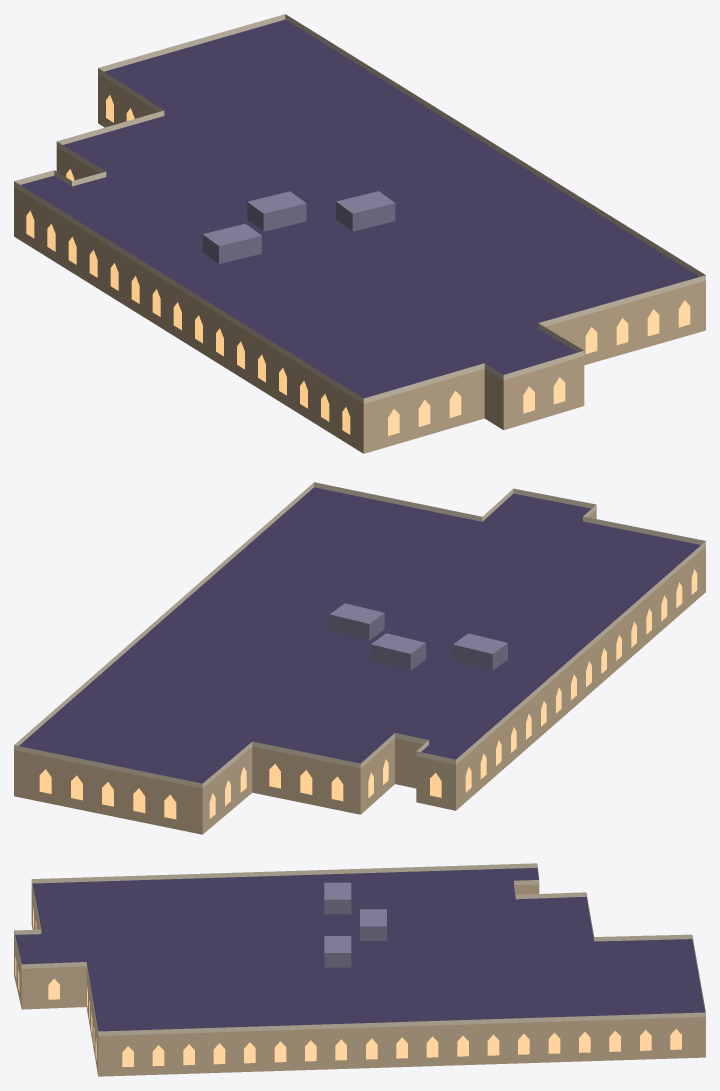
Rendered from b-112-boundary-layer-wind-tunnel-laboratory.glb.
3 renders of one model, top to bottom at view 1: azimuth 30°, elevation 25°; view 2: azimuth 150°, elevation 25°; view 3: azimuth 270°, elevation 25°, orthographic. The views are drawn at different scales.
Parts seen in each view (by area): view 1: campus/b-112-boundary-layer-wind-tunnel-laboratory-0; view 2: campus/b-112-boundary-layer-wind-tunnel-laboratory-0; view 3: campus/b-112-boundary-layer-wind-tunnel-laboratory-0.
Part boxes in pixels (bbox=[...]): campus/b-112-boundary-layer-wind-tunnel-laboratory-0: bbox=[14, 14, 705, 453]; campus/b-112-boundary-layer-wind-tunnel-laboratory-0: bbox=[14, 482, 705, 834]; campus/b-112-boundary-layer-wind-tunnel-laboratory-0: bbox=[14, 863, 705, 1076].
Size of the model in its own units: 44.33 by 6.8 by 77.08.
